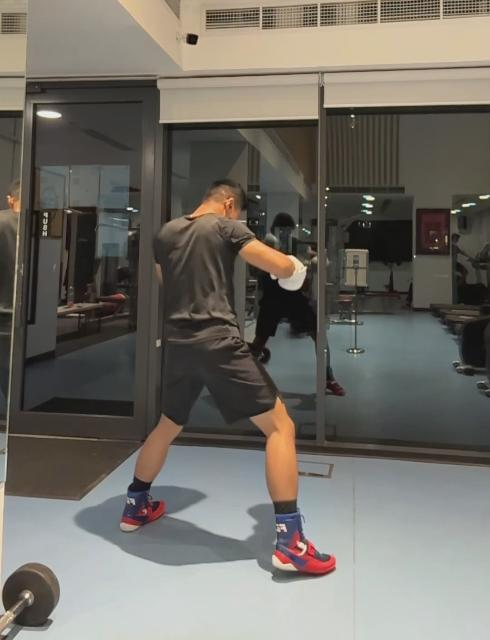punch: (119, 179, 336, 577)
